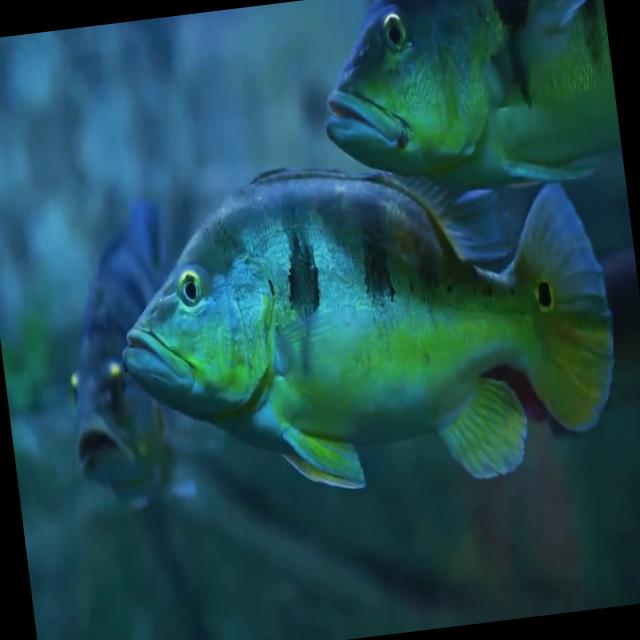fish: (95, 118, 632, 523), (308, 0, 626, 221), (40, 188, 208, 517)
